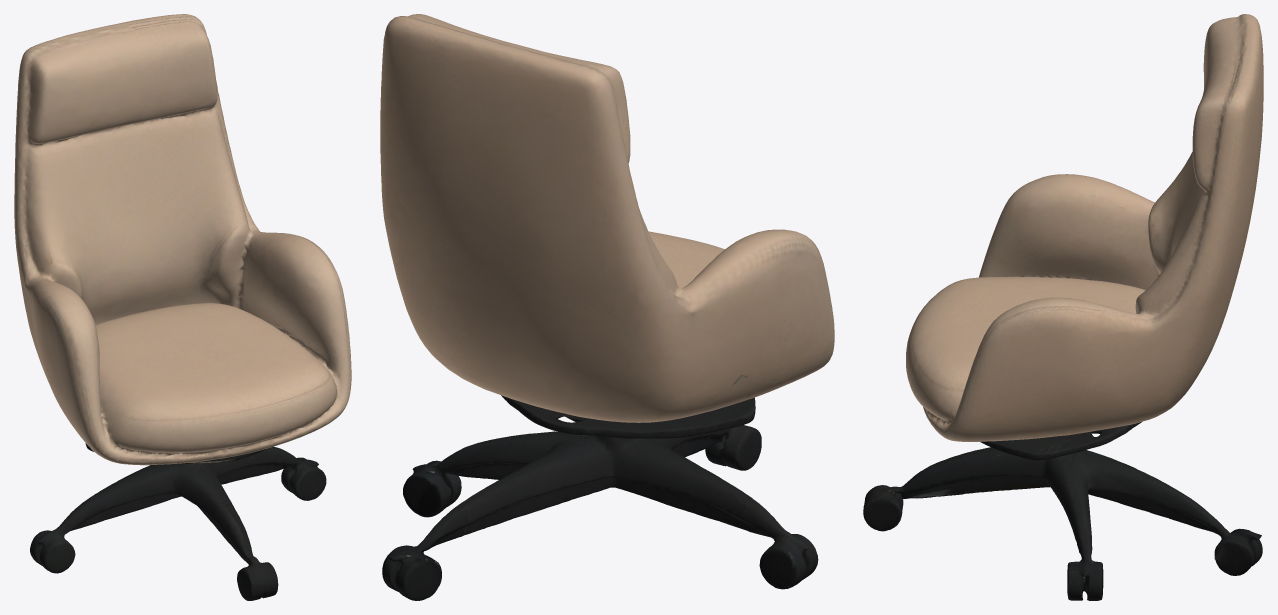
File: amrchair.glb
3 renders of one model, left to right at view 1: azimuth 30°, elevation 25°; view 2: azimuth 150°, elevation 25°; view 3: azimuth 270°, elevation 25°, orthographic. The views are drawn at different scales.
Parts seen in each view (by area): view 1: Mesh_0; view 2: Mesh_0; view 3: Mesh_0.
Boxes of the visible parts, x1,y1,x2,y2 form: Mesh_0: [14, 14, 351, 600]; Mesh_0: [380, 14, 834, 600]; Mesh_0: [863, 14, 1263, 600].
Size of the model in its own units: 0.3363 by 0.4839 by 0.3639.
Materials: 1 (1 with a texture image).
